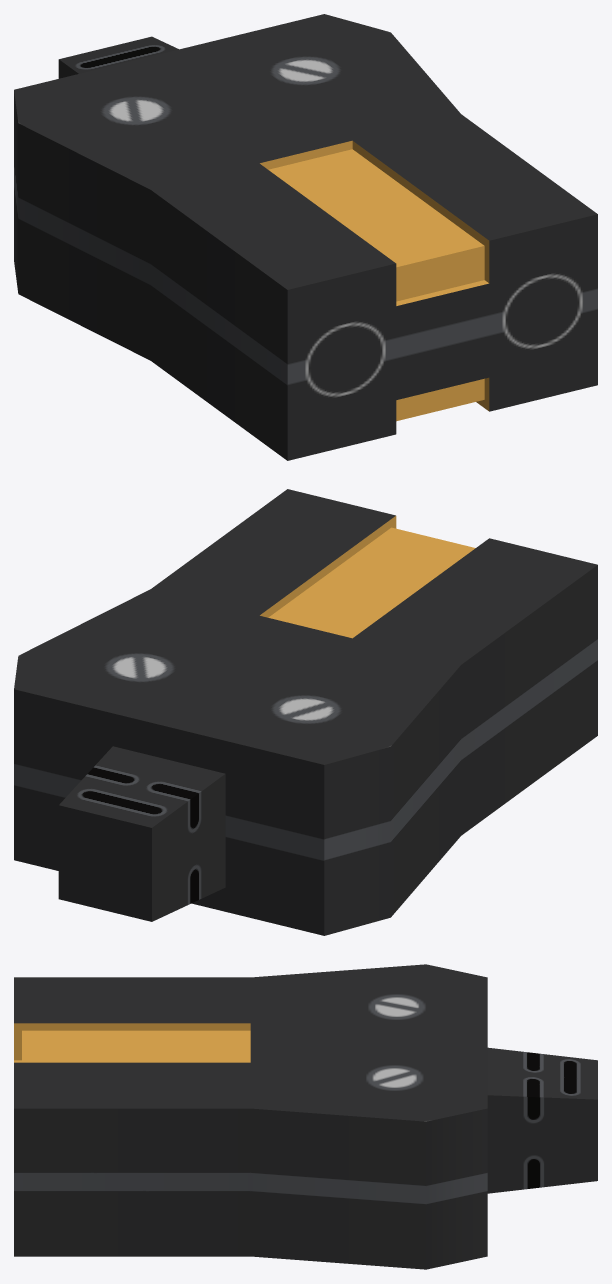
The model's file is 09d0c957-6a66-49ab-b328-4ae87bfa8819.glb.
3 renders of one model, top to bottom at view 1: azimuth 30°, elevation 25°; view 2: azimuth 150°, elevation 25°; view 3: azimuth 270°, elevation 25°, orthographic. The views are drawn at different scales.
Parts seen in each view (by area): view 1: Appliance_Plug_5; view 2: Appliance_Plug_5; view 3: Appliance_Plug_5.
Part boxes in pixels (box(x1,y1,x2,y2)): Appliance_Plug_5: box(14, 14, 597, 460); Appliance_Plug_5: box(14, 489, 597, 935); Appliance_Plug_5: box(14, 964, 597, 1269).
Size of the model in its own units: 228 by 100 by 358.
Materials: 1 (1 with a texture image).
